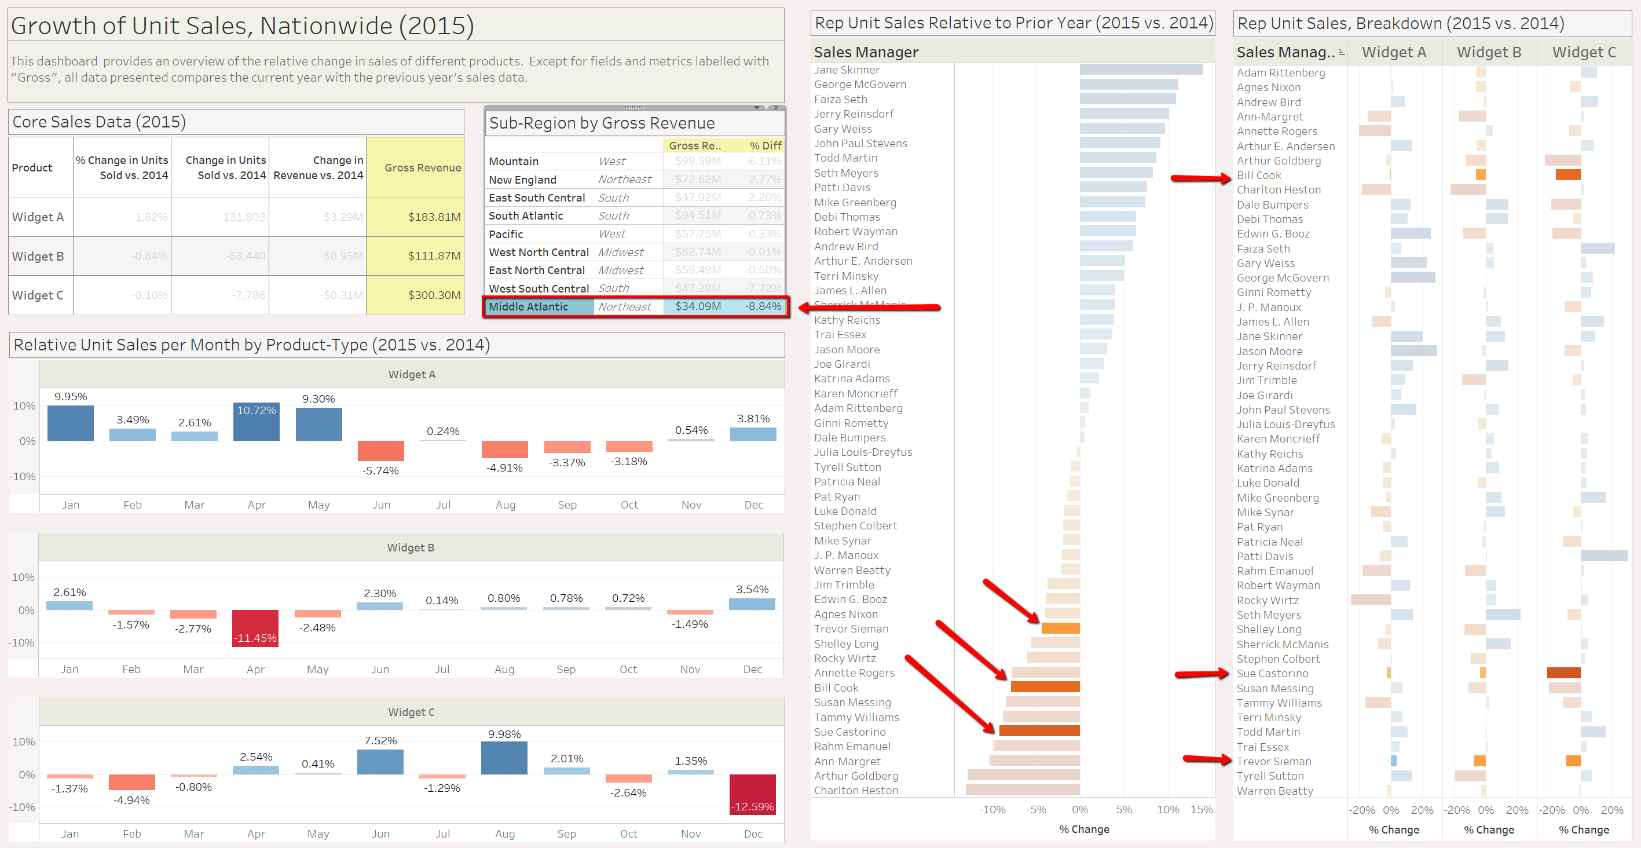

The dashboard page shown, as its layout file describes it:
{"tool":"tableau","page":{"name":"Growth of Unit Sales, Nationwide (2015)","canvas":[2849,1495],"ordinal":0},"visuals":[{"type":"title","box":[21,20,1342,58]},{"type":"worksheet","title":" Rep Unit Sales Relative to Prior Year (2015 vs. 2014)","mark":"Automatic","rows":["Year","Sales Manager"],"box":[1408,24,699,1435]},{"type":"worksheet","title":" Rep Unit Sales, Breakdown (2015 vs. 2014)","mark":"Automatic","rows":["Year","Sales Manager"],"cols":["Product"],"box":[2138,25,689,1434]},{"type":"text","box":[21,66,1342,119]},{"type":"worksheet","title":" Core Sales Data (2015)","mark":"Automatic","rows":["Year","Product"],"box":[22,195,788,356]},{"type":"worksheet","title":" Sub-Region by Gross Revenue","mark":"Automatic","rows":["Sub-Region","Region","Year"],"box":[846,197,518,355]},{"type":"worksheet","title":" Relative Unit Sales per Month by Product-Type (2015 vs. 2014)","mark":"Automatic","cols":["Product","Year","Month"],"box":[24,580,1340,313]},{"type":"worksheet","title":"Sheet 16","mark":"Automatic","cols":["Product","Year","Month"],"box":[22,927,1340,250]},{"type":"worksheet","title":"Sheet 17","mark":"Automatic","cols":["Product","Year","Month"],"box":[23,1211,1340,250]}]}

Visuals, with their boxes in screenshot pixels (x1, y1, x2, y2), scaled from the page's 2849x1495 canvas onto the 1641x848 screenshot:
title: 12:11:785:44
" Rep Unit Sales Relative to Prior Year (2015 vs. 2014)" worksheet: 811:14:1214:828
" Rep Unit Sales, Breakdown (2015 vs. 2014)" worksheet: 1231:14:1628:828
text: 12:37:785:105
" Core Sales Data (2015)" worksheet: 13:111:467:313
" Sub-Region by Gross Revenue" worksheet: 487:112:786:313
" Relative Unit Sales per Month by Product-Type (2015 vs. 2014)" worksheet: 14:329:786:507
"Sheet 16" worksheet: 13:526:785:668
"Sheet 17" worksheet: 13:687:785:829
